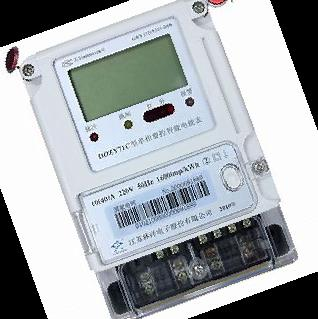digital: (20, 1, 279, 271)
